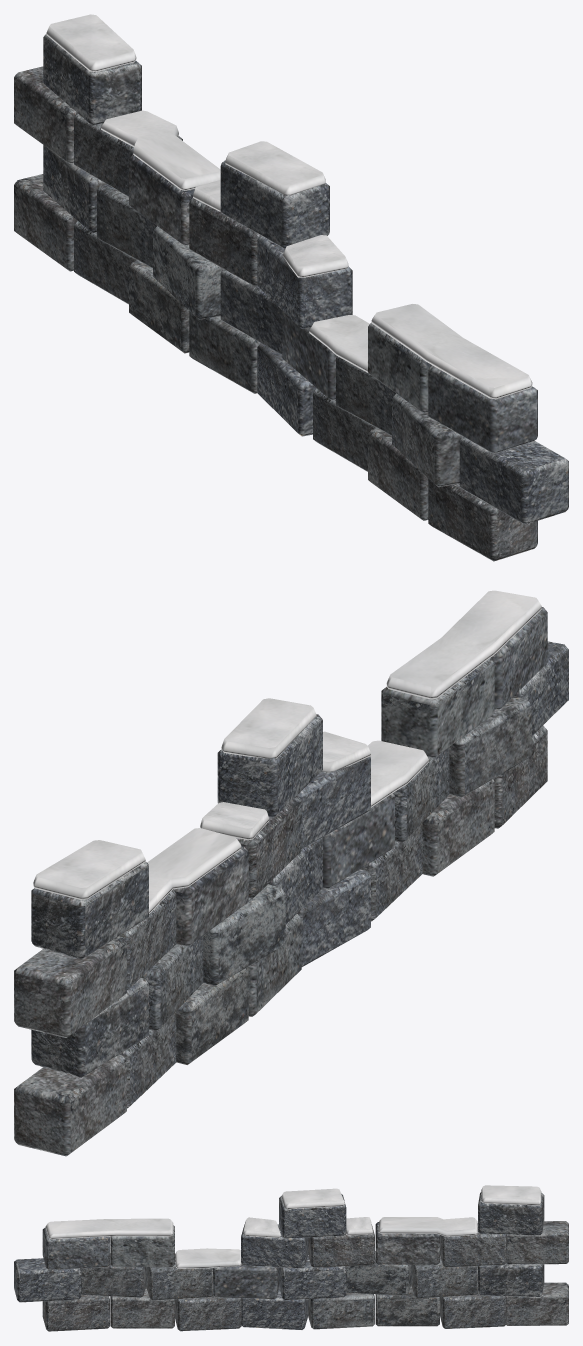
The model's file is StoneWallA_CSnow.fbx.
3 views of the same model, one above another, from view 1: azimuth 30°, elevation 25°; view 2: azimuth 150°, elevation 25°; view 3: azimuth 270°, elevation 25° (orthographic). The views are drawn at different scales.
Visible parts, largest first — view 1: StoneWallA_CSnow; view 2: StoneWallA_CSnow; view 3: StoneWallA_CSnow.
Boxes of the visible parts, x1,y1,x2,y2 form: StoneWallA_CSnow: [14, 14, 568, 561]; StoneWallA_CSnow: [14, 590, 568, 1156]; StoneWallA_CSnow: [14, 1185, 568, 1331].
Bounding box in the file's own units: 63.04 × 159 × 621.
